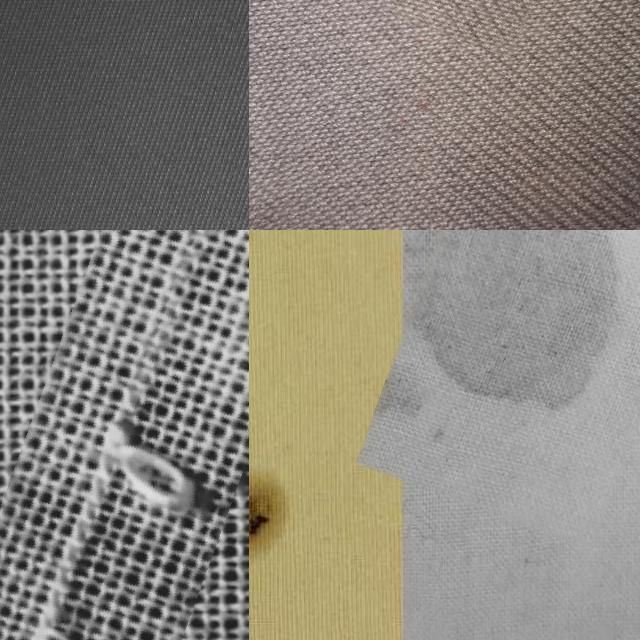Hole: (378, 230, 640, 534), (249, 423, 324, 593)
Thread_other: (0, 230, 249, 640)
seam: (391, 0, 550, 49)
